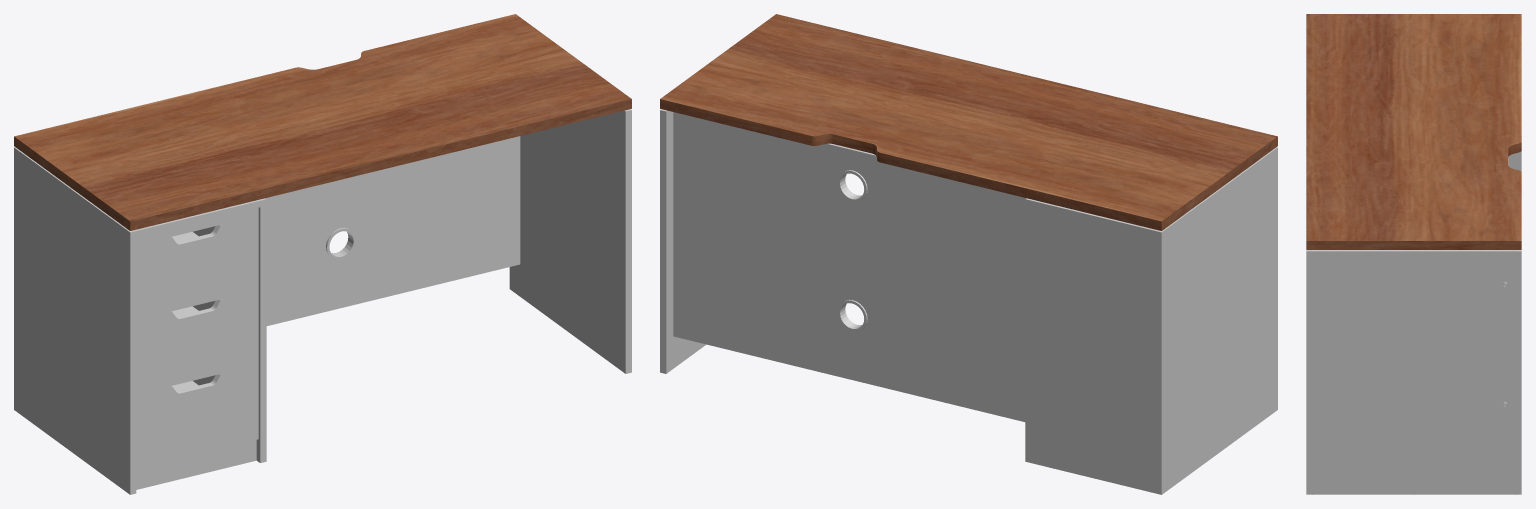
File: Office_Desk_1.glb
3 views of the same model, side by side, from view 1: azimuth 30°, elevation 25°; view 2: azimuth 150°, elevation 25°; view 3: azimuth 270°, elevation 25° (orthographic). The views are drawn at different scales.
Visible parts, largest first — view 1: Desk_Wood, Desk_Support, Desk_Compartment, D3, D2, D1; view 2: Desk_Support, Desk_Compartment, Desk_Wood; view 3: Desk_Support, Desk_Wood.
Boxes of the visible parts, box(x1,y1,x2,y2) form: Desk_Wood: box(14, 14, 631, 230); Desk_Support: box(265, 109, 631, 373); Desk_Compartment: box(14, 147, 266, 494); D3: box(136, 364, 258, 459); D2: box(136, 290, 258, 384); D1: box(136, 215, 258, 309); Desk_Support: box(660, 109, 1026, 421); Desk_Compartment: box(1025, 147, 1277, 494); Desk_Wood: box(660, 14, 1277, 230); Desk_Support: box(1306, 157, 1521, 494); Desk_Wood: box(1306, 14, 1521, 249).
Bounding box in the file's own units: 1.62 × 0.848 × 0.65.
4 materials, 1 textured.
